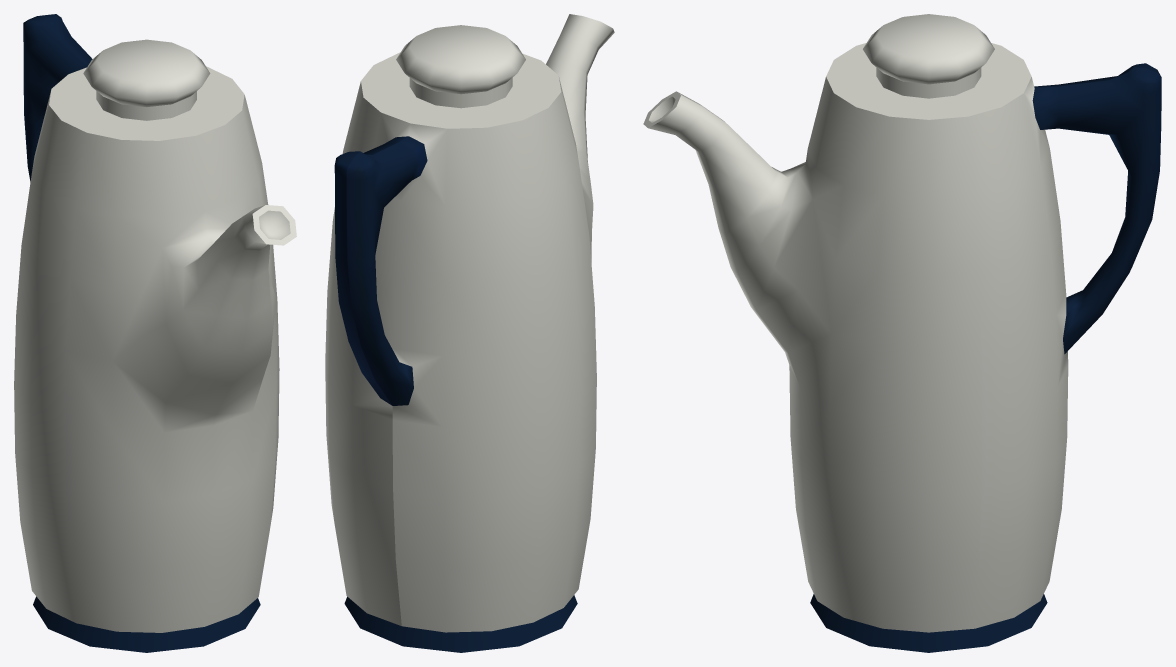
Rendered from SHAVR_SET_PURCOLATOR.fbx.
3 views of the same model, side by side, from view 1: azimuth 30°, elevation 25°; view 2: azimuth 150°, elevation 25°; view 3: azimuth 270°, elevation 25° (orthographic). The views are drawn at different scales.
Parts seen in each view (by area): view 1: SHAVR_SET_PURCOLATOR; view 2: SHAVR_SET_PURCOLATOR; view 3: SHAVR_SET_PURCOLATOR.
Boxes of the visible parts, left/top/right/bottom form: SHAVR_SET_PURCOLATOR: left=14, top=14, right=296, bottom=652; SHAVR_SET_PURCOLATOR: left=325, top=14, right=614, bottom=652; SHAVR_SET_PURCOLATOR: left=643, top=14, right=1161, bottom=652.
Size of the model in its own units: 0.1665 by 0.3732 by 0.3094.
